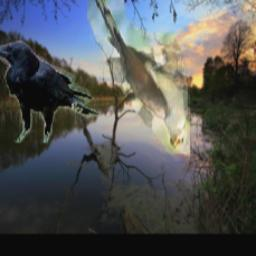Crow: (0, 41, 101, 144)
Cuckoo: (87, 0, 190, 154)
